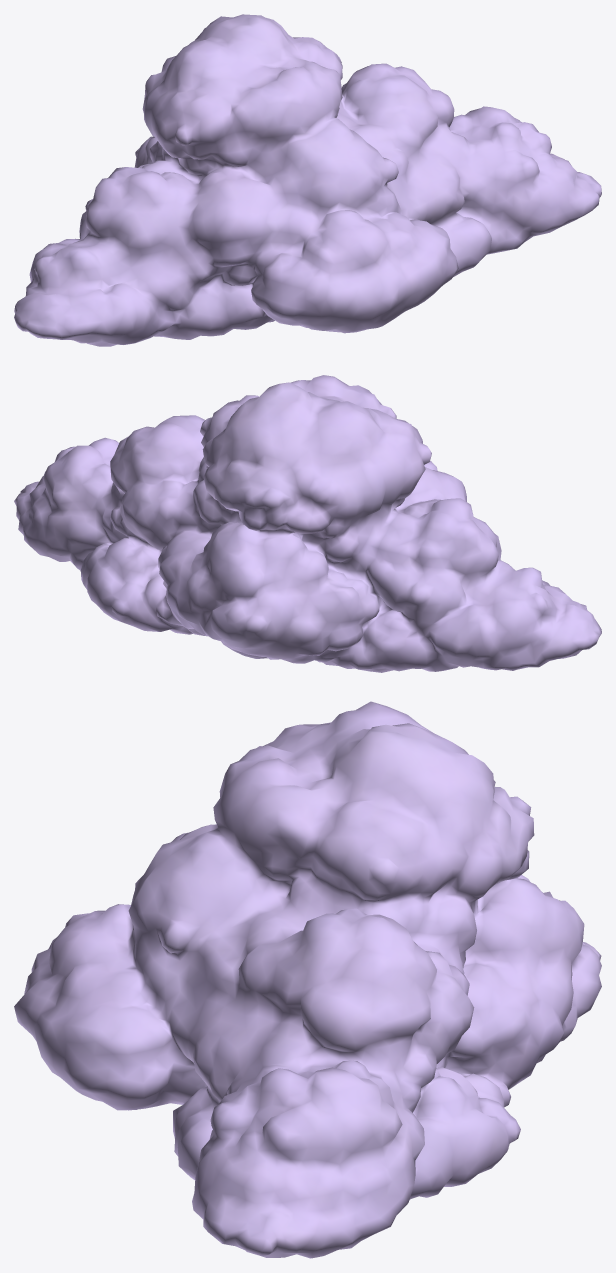
File: pink_cloud.glb
3 renders of one model, top to bottom at view 1: azimuth 30°, elevation 25°; view 2: azimuth 150°, elevation 25°; view 3: azimuth 270°, elevation 25°, orthographic. The views are drawn at different scales.
Visible parts, largest first — view 1: geometry_0; view 2: geometry_0; view 3: geometry_0.
Part boxes in pixels (x1,y1,x2,y2): geometry_0: (14,14,601,346); geometry_0: (14,375,601,672); geometry_0: (14,701,601,1258).
Size of the model in its own units: 0.9585 by 0.4375 by 0.5889.
1 material, 1 textured.
